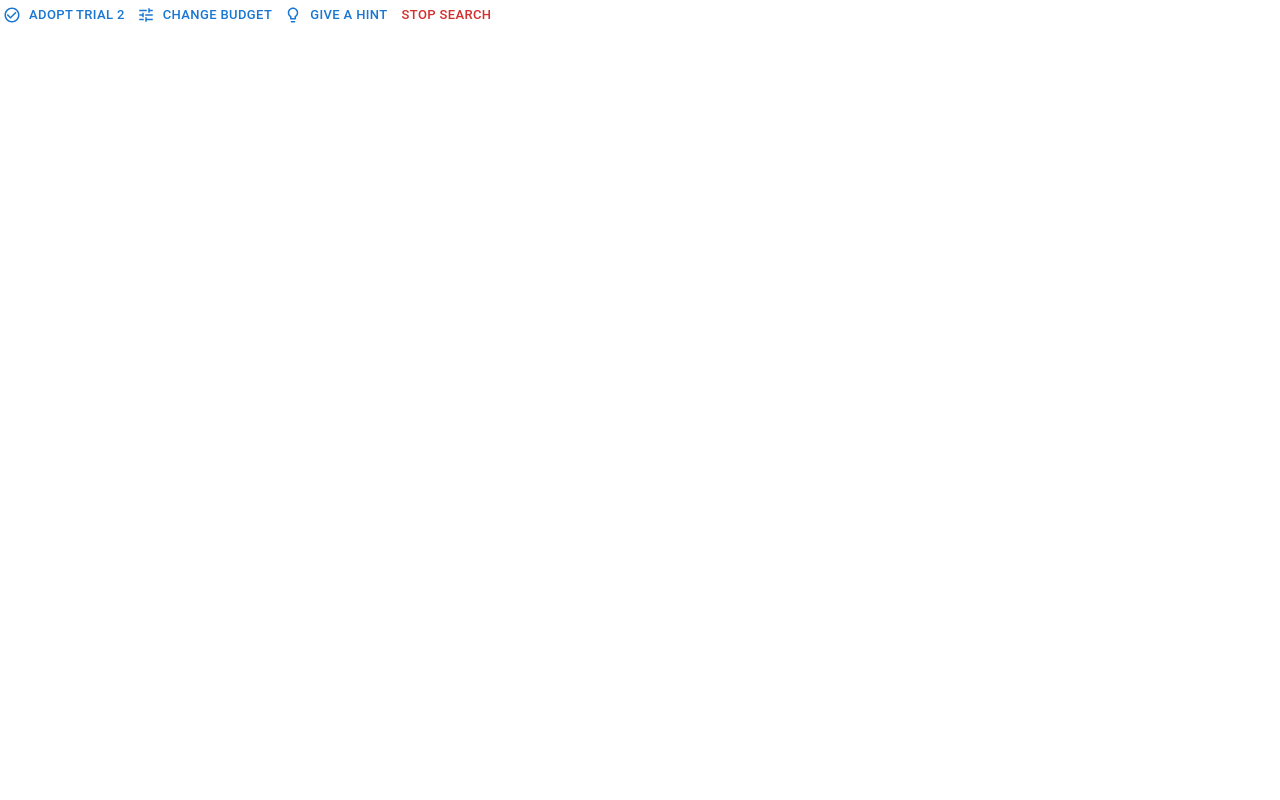
the adopt dialog › shows the trial with its score and parameters, and a star only for the best one
Click the button "Adopt trial 2". click: (65, 15)
box: [0,0,130,31]
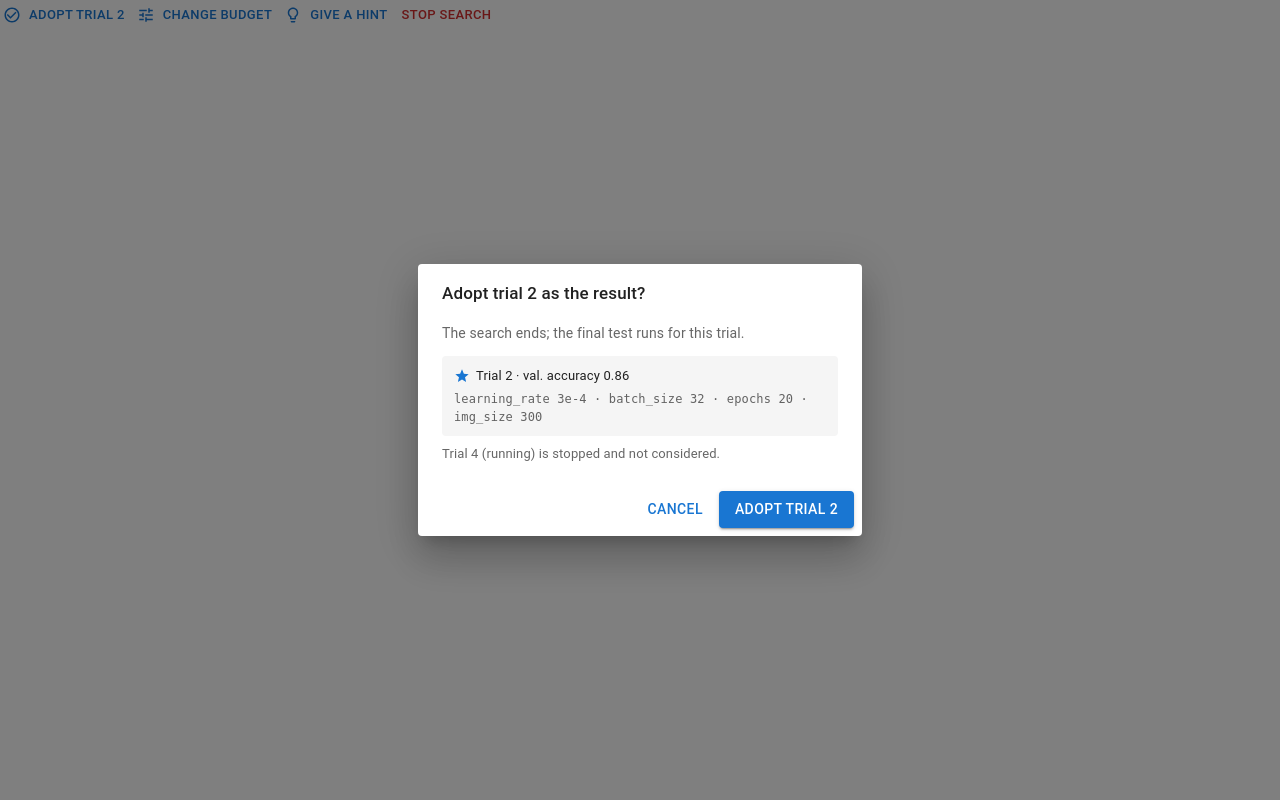
Expected: the text "Trial 2 · val. accuracy 0.86" is shown, [476,366,629,386]
Expected: the text "learning_rate" is shown, [454,392,808,424]
Expected: the icon named "Best trial so far" is shown, [454,368,470,384]
